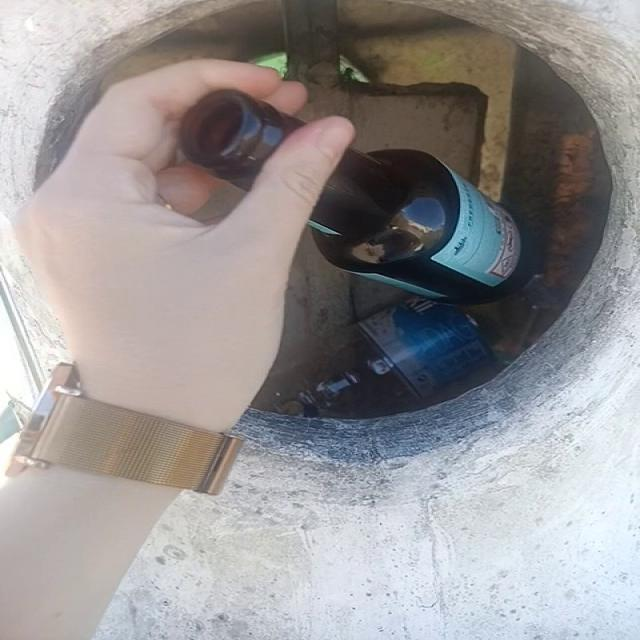Glass: (311, 149, 531, 304), (183, 90, 299, 188)
